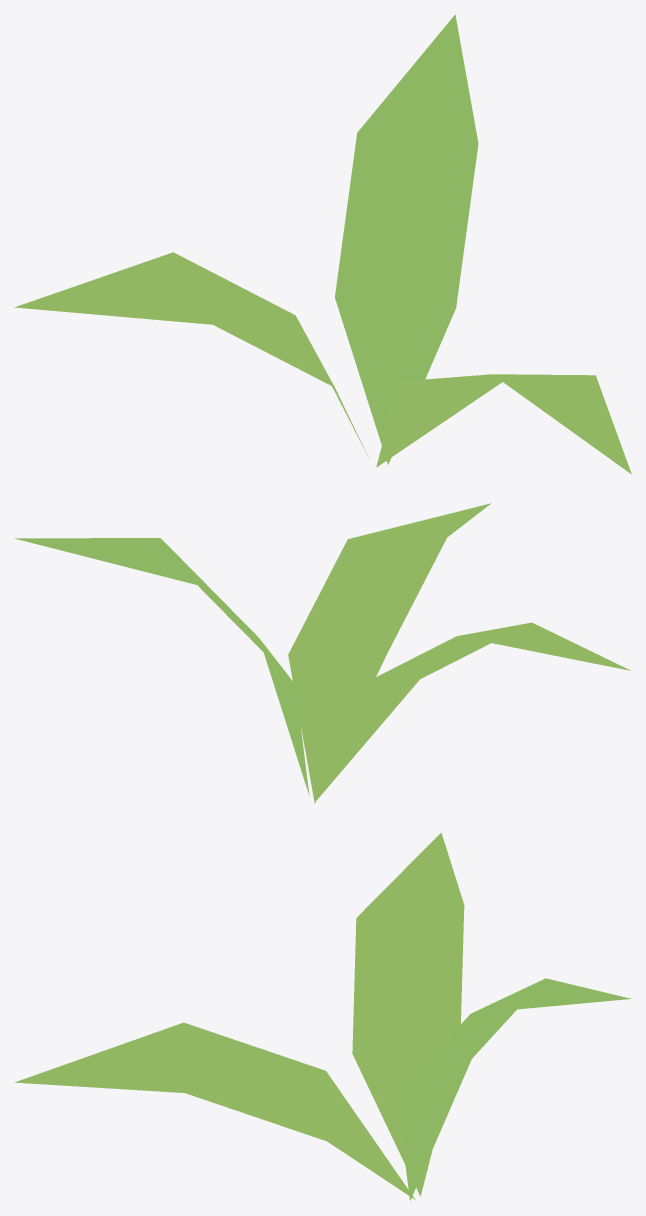
The model's file is Plant_b_OneS_04.fbx.
The picture shows the model from 3 angles, top to bottom: view 1: azimuth 30°, elevation 25°; view 2: azimuth 150°, elevation 25°; view 3: azimuth 270°, elevation 25°; orthographic projection. The views are drawn at different scales.
Visible parts, largest first — view 1: Plant_b_OneS_04; view 2: Plant_b_OneS_04; view 3: Plant_b_OneS_04.
Boxes of the visible parts, left/top/right/bottom form: Plant_b_OneS_04: left=14, top=14, right=631, bottom=474; Plant_b_OneS_04: left=14, top=503, right=630, bottom=803; Plant_b_OneS_04: left=14, top=832, right=631, bottom=1200.
Size of the model in its own units: 0.7124 by 0.3966 by 0.768.
